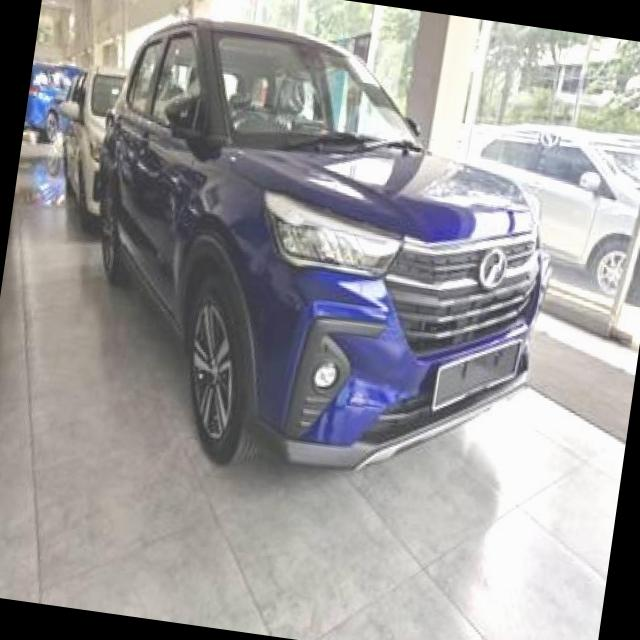PeroduaAtiva: (57, 2, 580, 506)
